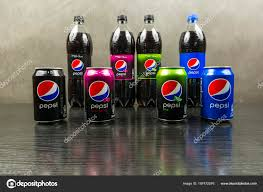pepsi: (37, 78, 62, 111), (208, 76, 232, 110), (88, 81, 113, 110), (161, 80, 183, 110), (69, 57, 86, 75), (186, 57, 202, 74)
